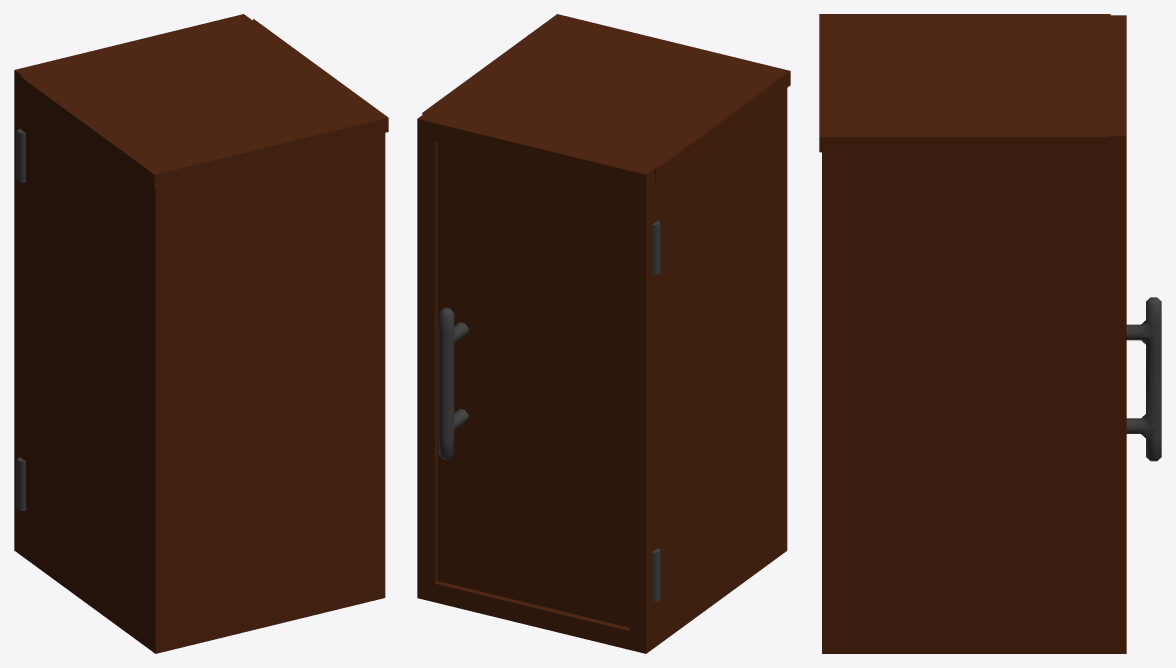
Rendered from Wardrobe.fbx.
The picture shows the model from 3 angles, left to right: view 1: azimuth 30°, elevation 25°; view 2: azimuth 150°, elevation 25°; view 3: azimuth 270°, elevation 25°; orthographic projection. The views are drawn at different scales.
Parts seen in each view (by area): view 1: Shelf, Wardrobe_Door, Hinges; view 2: Wardrobe_Door, Shelf, handle, Hinges; view 3: Shelf, Wardrobe_Door, handle.
Part boxes in pixels (<box>): Shelf: <box>19,19,388,653</box>; Wardrobe_Door: <box>14,14,252,556</box>; Hinges: <box>16,129,25,510</box>; Wardrobe_Door: <box>417,112,654,653</box>; Shelf: <box>422,14,790,647</box>; handle: <box>438,307,468,459</box>; Hinges: <box>651,221,660,601</box>; Shelf: <box>819,14,1110,653</box>; Wardrobe_Door: <box>1107,15,1126,653</box>; handle: <box>1126,297,1161,461</box>.
Size of the model in its own units: 1.03 by 2 by 1.2.
